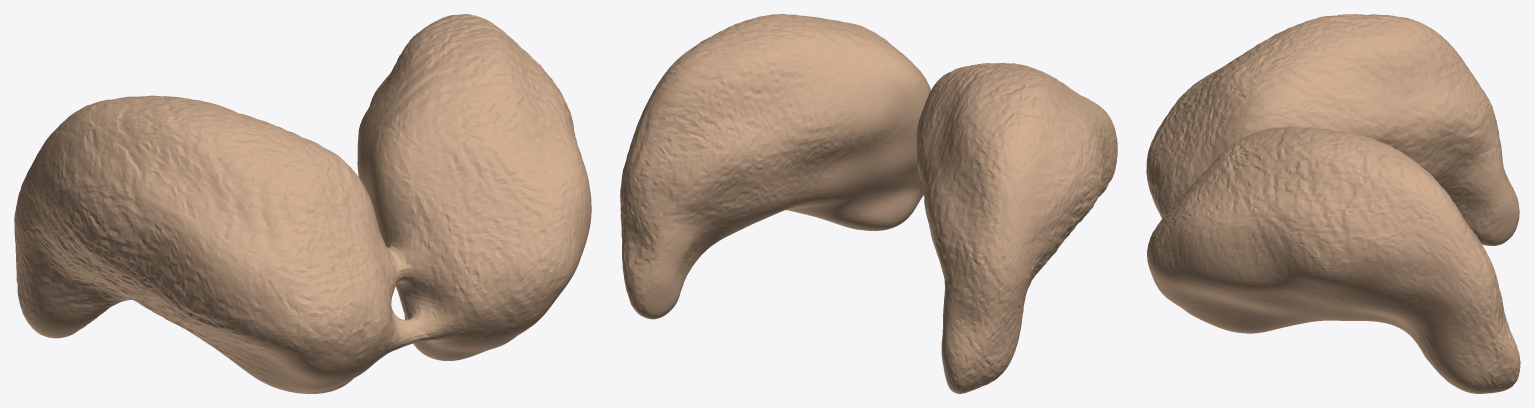
The model's file is Thalamus-Basal.glb.
3 views of the same model, side by side, from view 1: azimuth 30°, elevation 25°; view 2: azimuth 150°, elevation 25°; view 3: azimuth 270°, elevation 25° (orthographic). The views are drawn at different scales.
Parts seen in each view (by area): view 1: thalamus; view 2: thalamus; view 3: thalamus.
Part boxes in pixels (bbox=[...]): thalamus: bbox=[14, 14, 591, 393]; thalamus: bbox=[620, 14, 1117, 393]; thalamus: bbox=[1146, 14, 1520, 393].
Bounding box in the file's own units: 40.31 × 22.45 × 32.28.
